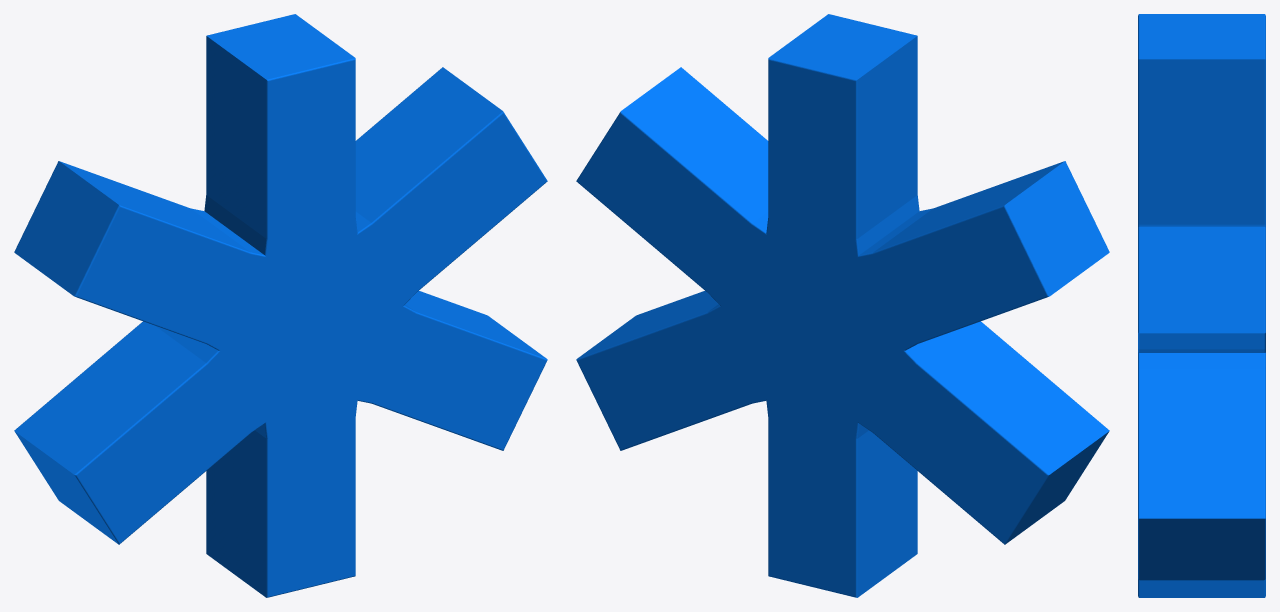
The model's file is footerchain.glb.
The picture shows the model from 3 angles, left to right: view 1: azimuth 30°, elevation 25°; view 2: azimuth 150°, elevation 25°; view 3: azimuth 270°, elevation 25°; orthographic projection. The views are drawn at different scales.
Visible parts, largest first — view 1: Inter_Sans_Asterisk_0034ff_6Arms_flat; view 2: Inter_Sans_Asterisk_0034ff_6Arms_flat; view 3: Inter_Sans_Asterisk_0034ff_6Arms_flat.
Part boxes in pixels (bbox=[...]): Inter_Sans_Asterisk_0034ff_6Arms_flat: bbox=[14, 14, 547, 597]; Inter_Sans_Asterisk_0034ff_6Arms_flat: bbox=[576, 14, 1109, 597]; Inter_Sans_Asterisk_0034ff_6Arms_flat: bbox=[1138, 14, 1265, 597].
Bounding box in the file's own units: 3.56 × 3.72 × 0.8.
